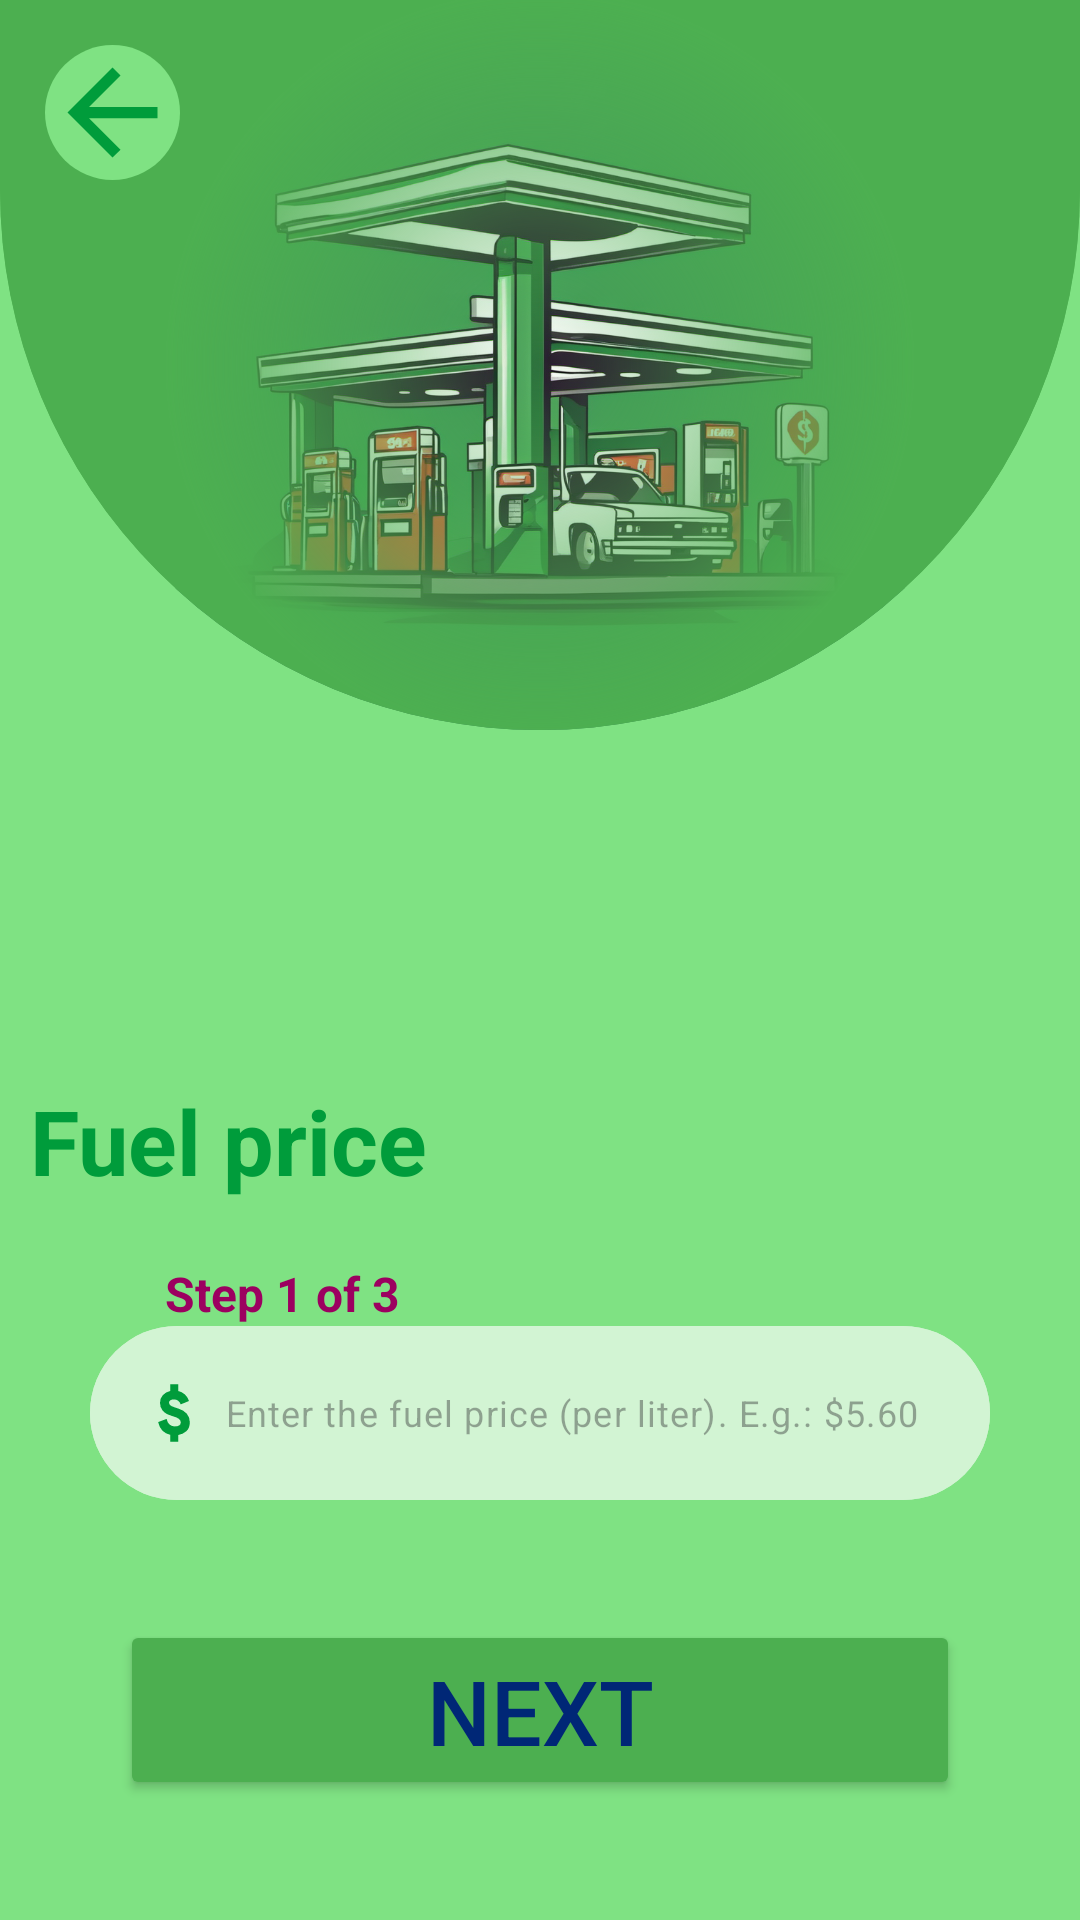

Screen size 1080*1920. Icon name, then its box in pixels as (x1, y1, x2, y2):
voltar: (45, 45, 180, 180)
